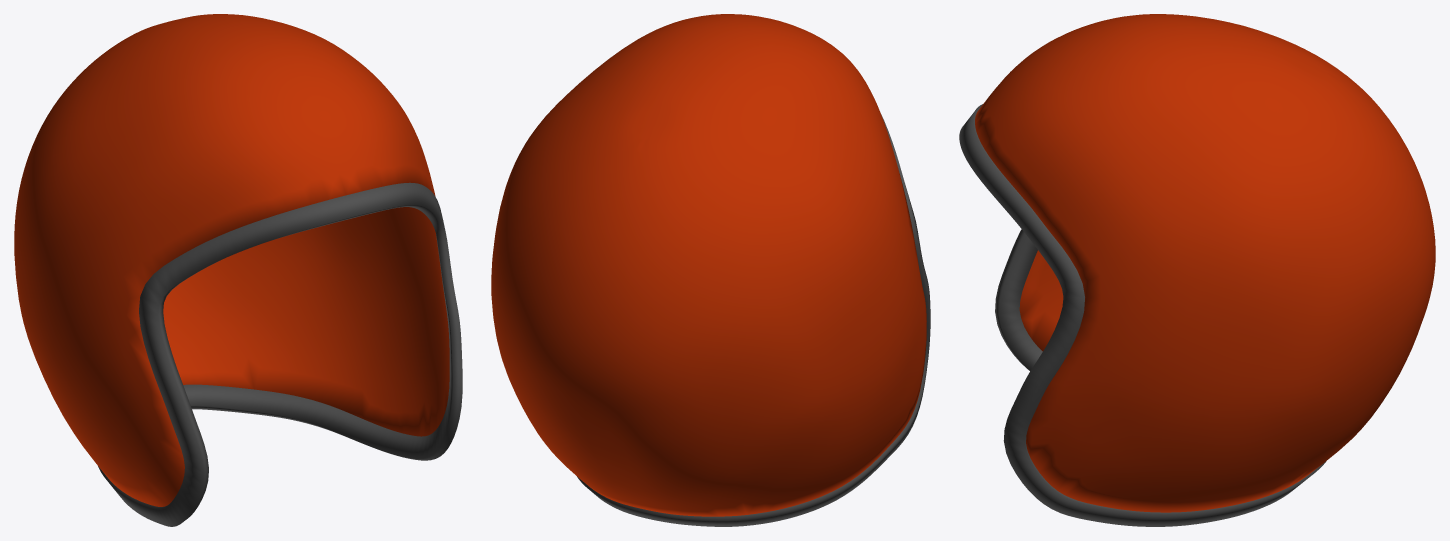
The model's file is Kaciga1.fbx.
3 views of the same model, side by side, from view 1: azimuth 30°, elevation 25°; view 2: azimuth 150°, elevation 25°; view 3: azimuth 270°, elevation 25° (orthographic).
Visible parts, largest first — view 1: kaciga 01; view 2: kaciga 01; view 3: kaciga 01.
Boxes of the visible parts, x1=… form: kaciga 01: x1=14, y1=14, x2=462, y2=526; kaciga 01: x1=491, y1=14, x2=930, y2=526; kaciga 01: x1=959, y1=14, x2=1435, y2=526.
Size of the model in its own units: 42.19 by 48.94 by 48.23.
